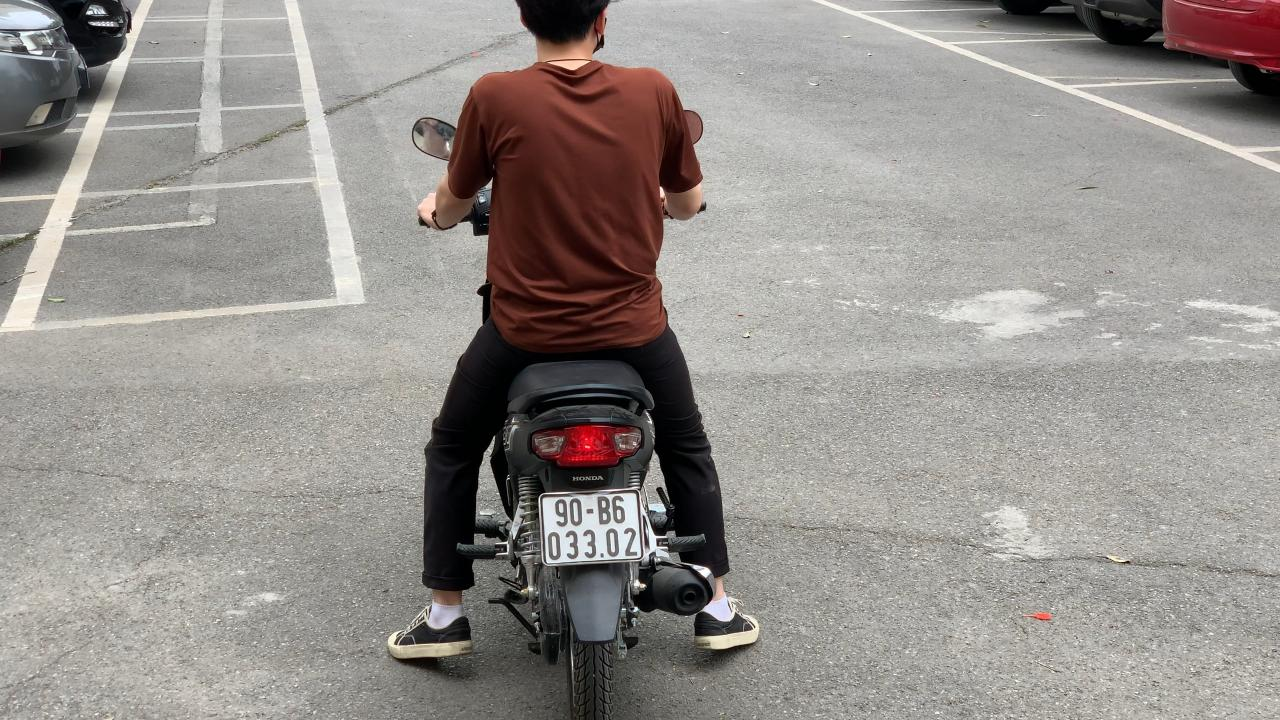motorcyclist: (397, 0, 762, 714), (538, 488, 649, 570)
